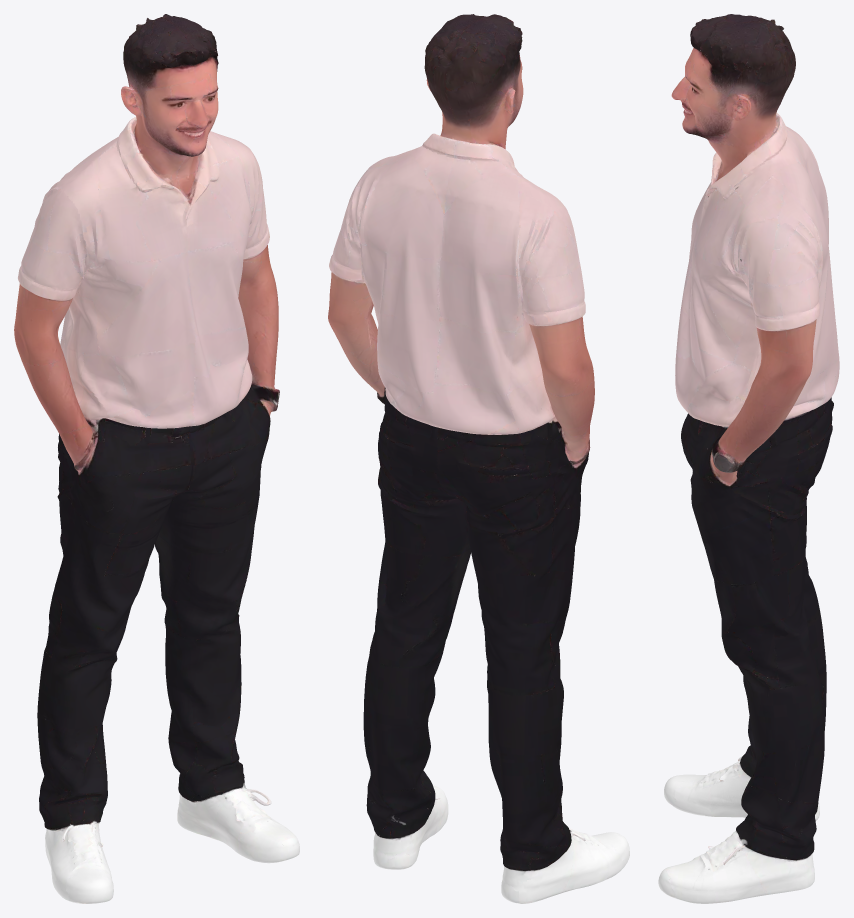
Rendered from matt.glb.
The picture shows the model from 3 angles, left to right: view 1: azimuth 30°, elevation 25°; view 2: azimuth 150°, elevation 25°; view 3: azimuth 270°, elevation 25°; orthographic projection.
Parts seen in each view (by area): view 1: Mesh_0; view 2: Mesh_0; view 3: Mesh_0.
Boxes of the visible parts, x1=… form: Mesh_0: x1=14, y1=14, x2=299, y2=903; Mesh_0: x1=328, y1=14, x2=629, y2=903; Mesh_0: x1=658, y1=14, x2=839, y2=903.
Size of the model in its own units: 0.5948 by 1.9 by 0.3726.
Materials: 1 (1 with a texture image).
